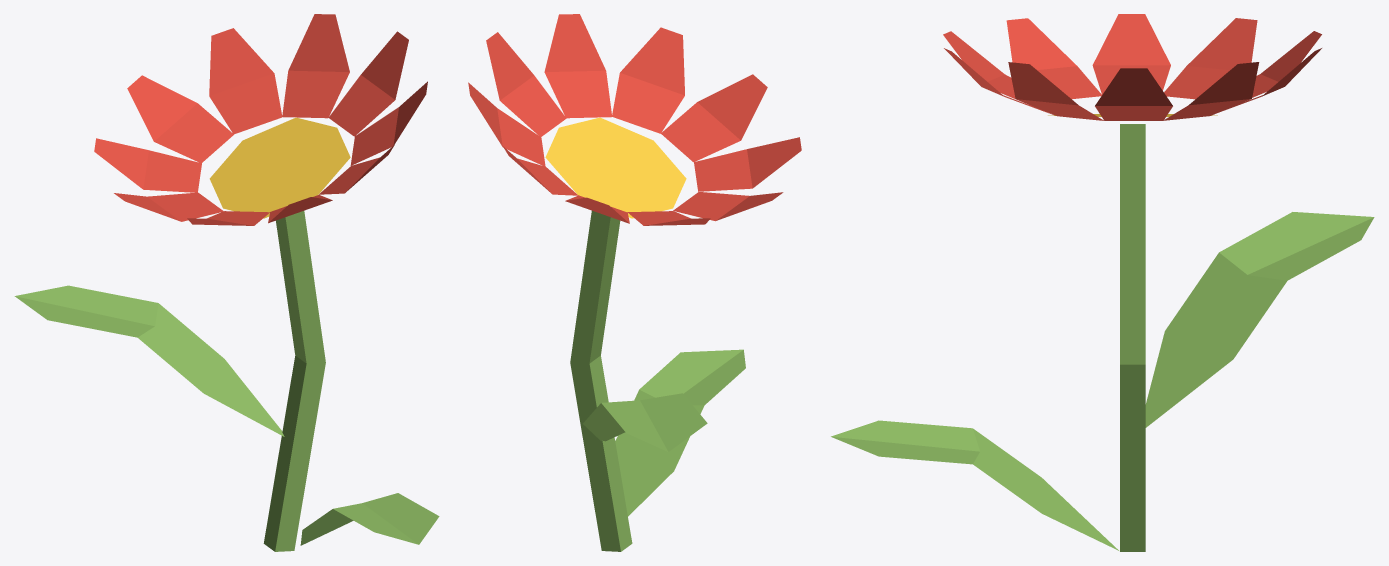
Rendered from flower_1.glb.
3 views of the same model, side by side, from view 1: azimuth 30°, elevation 25°; view 2: azimuth 150°, elevation 25°; view 3: azimuth 270°, elevation 25° (orthographic). The views are drawn at different scales.
Parts seen in each view (by area): view 1: Cube; view 2: Cube; view 3: Cube.
Boxes of the visible parts, x1,y1,x2,y2 form: Cube: [14, 14, 439, 551]; Cube: [468, 14, 801, 551]; Cube: [831, 14, 1374, 551].
Bounding box in the file's own units: 0.3515 × 0.5675 × 0.5113.
